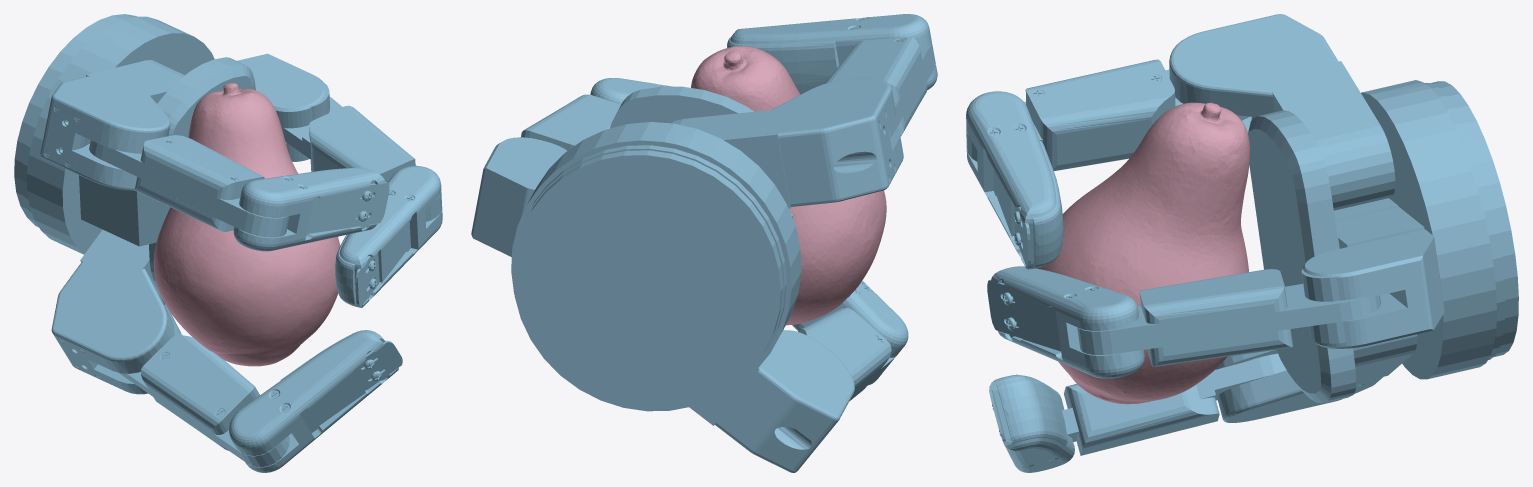
The picture shows the model from 3 angles, left to right: view 1: azimuth 30°, elevation 25°; view 2: azimuth 150°, elevation 25°; view 3: azimuth 270°, elevation 25°; orthographic projection. The views are drawn at different scales.
Visible parts, largest first — view 1: world; view 2: world; view 3: world.
Part boxes in pixels (x1,y1,x2,y2): world: [14, 14, 442, 472]; world: [471, 14, 937, 472]; world: [966, 14, 1518, 472].
Size of the model in its own units: 0.1378 by 0.1315 by 0.167.
